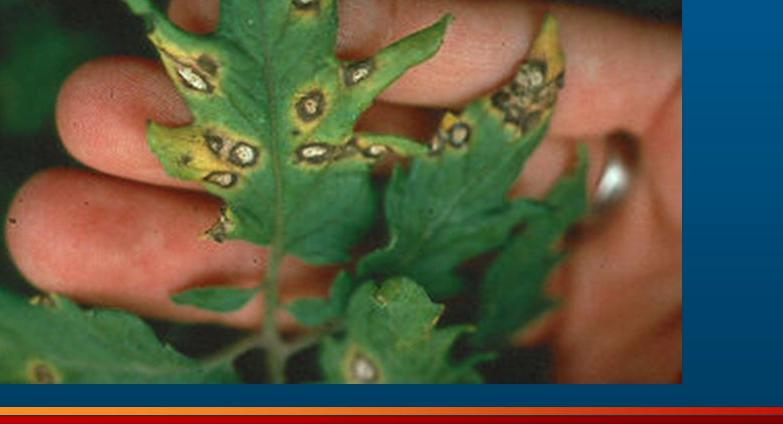Tomato Septoria leaf spot: (110, 0, 426, 254), (376, 11, 578, 305), (0, 261, 272, 380)
